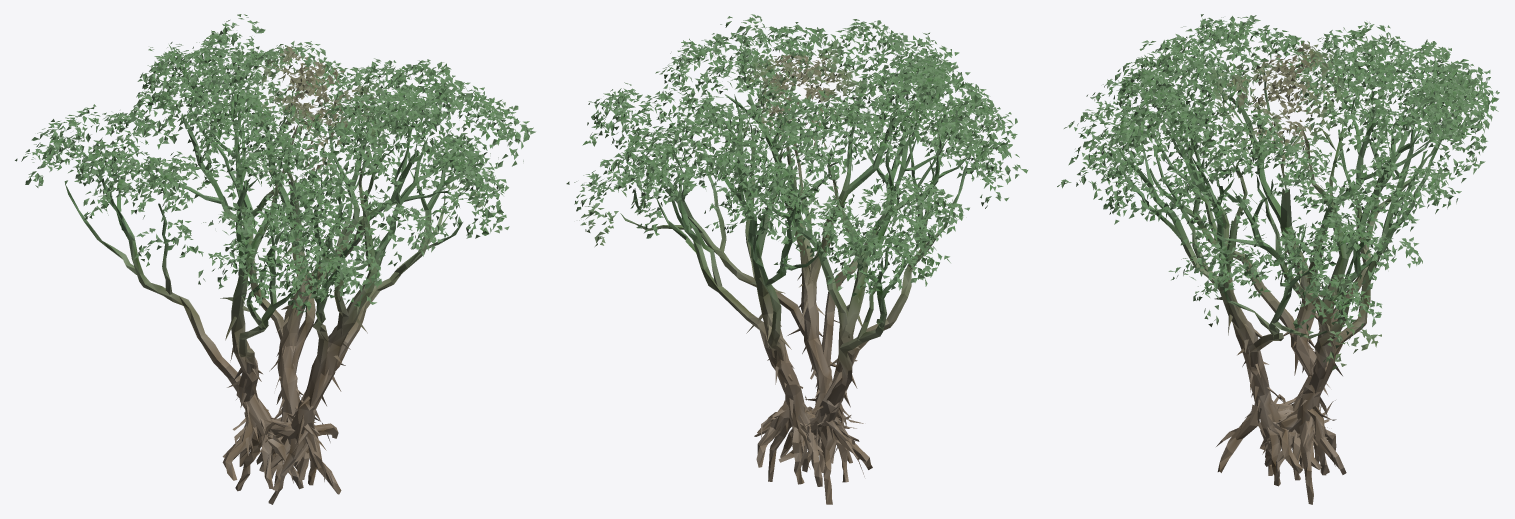
The model's file is mangrove-low.glb.
The picture shows the model from 3 angles, left to right: view 1: azimuth 30°, elevation 25°; view 2: azimuth 150°, elevation 25°; view 3: azimuth 270°, elevation 25°; orthographic projection. The views are drawn at different scales.
Parts seen in each view (by area): view 1: world; view 2: world; view 3: world.
Boxes of the visible parts, x1=… form: world: x1=15, y1=14, x2=535, y2=504; world: x1=566, y1=14, x2=1027, y2=504; world: x1=1057, y1=14, x2=1499, y2=504.
Bounding box in the file's own units: 6.46 × 6.4 × 5.7.
